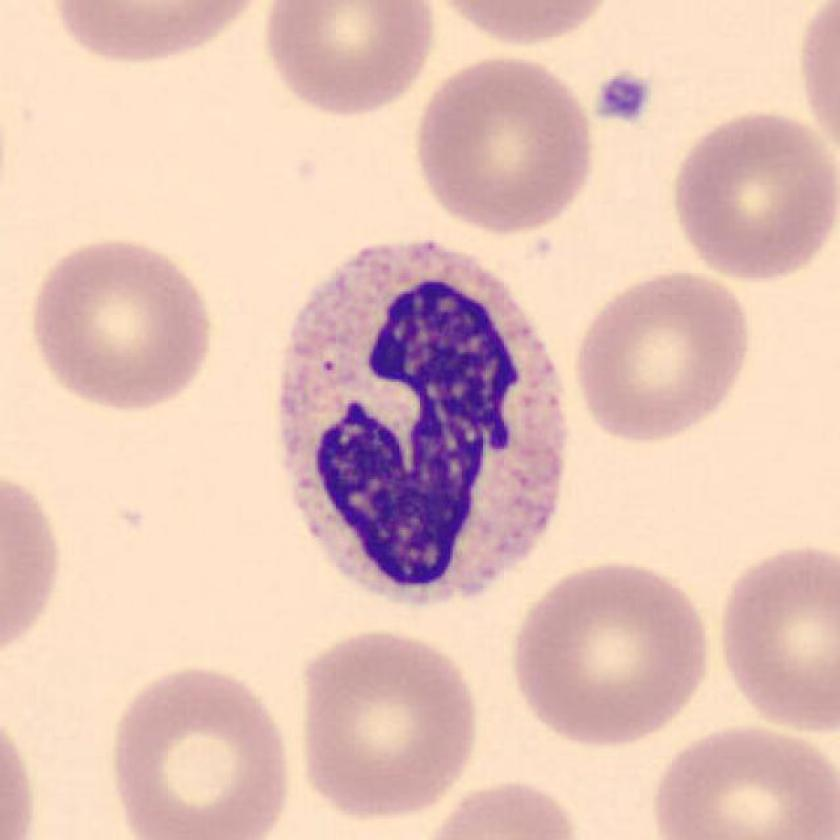neutrophil: (285, 248, 567, 605)
